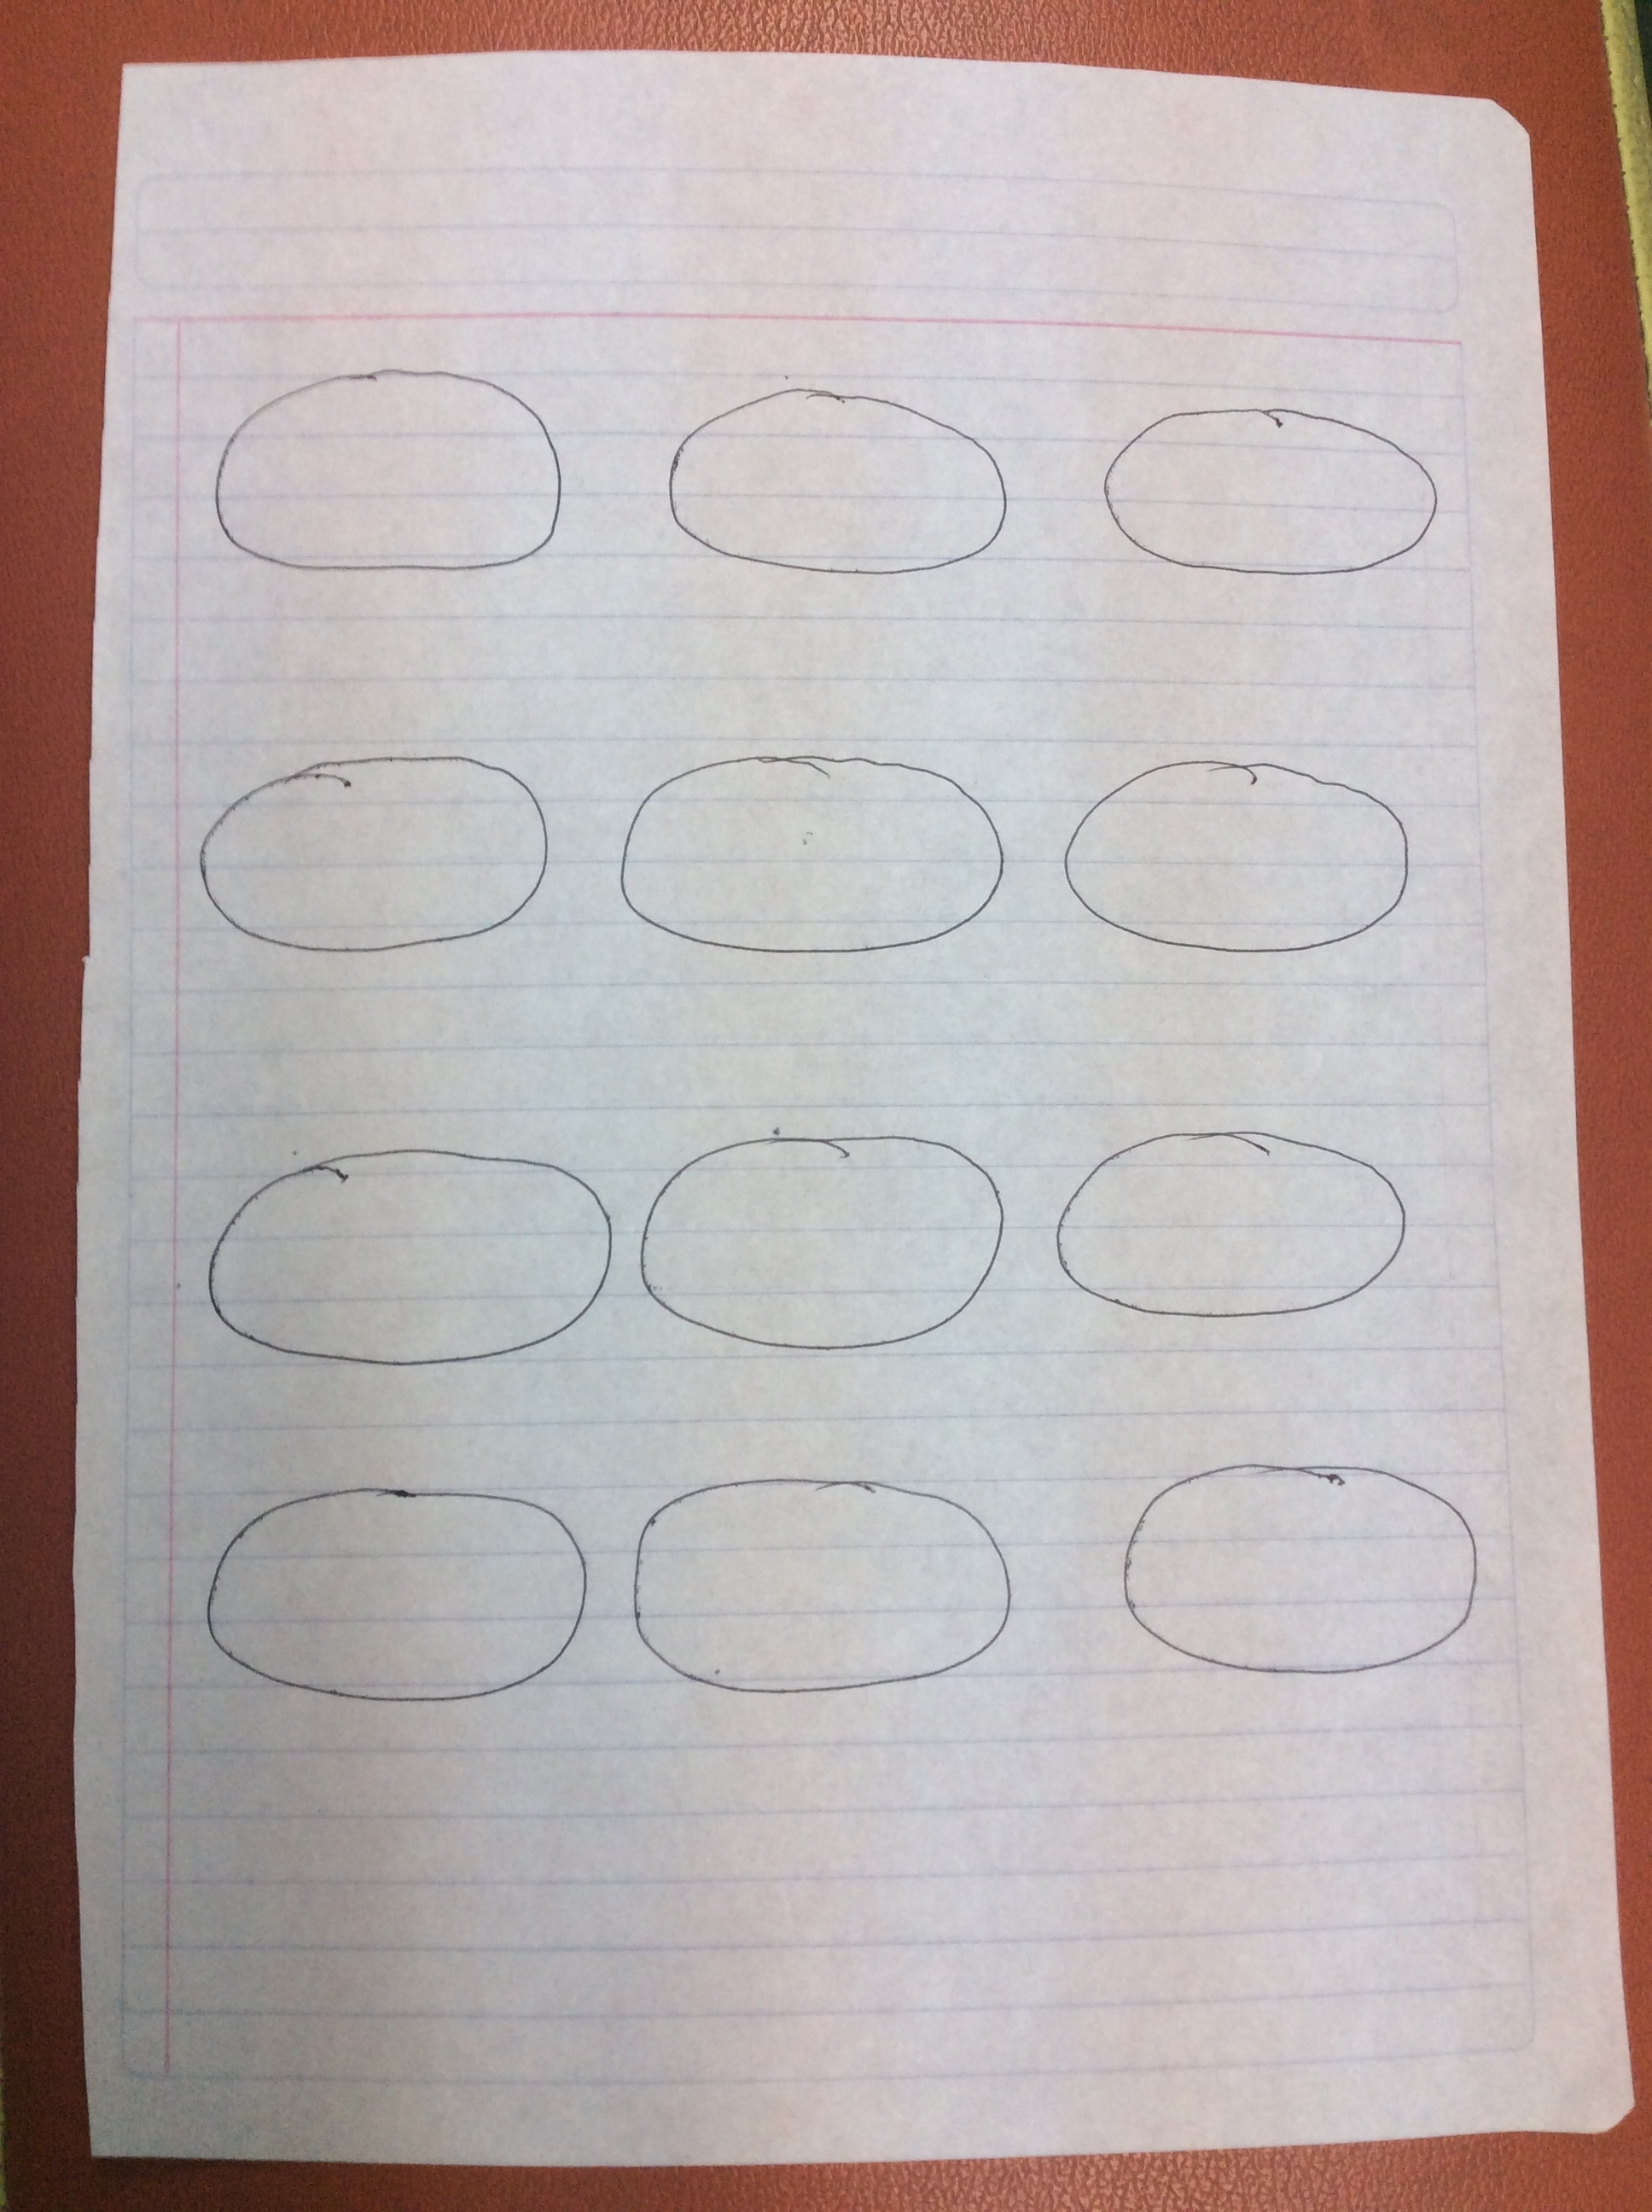start_end: (595, 1450, 1036, 1724), (179, 1112, 619, 1383), (168, 1464, 592, 1738), (595, 710, 1022, 973), (623, 1096, 1019, 1379), (1074, 1433, 1491, 1700), (1050, 723, 1445, 987), (182, 342, 581, 597), (1074, 366, 1452, 621), (633, 349, 1022, 597), (1043, 1090, 1425, 1338), (179, 741, 562, 977)
